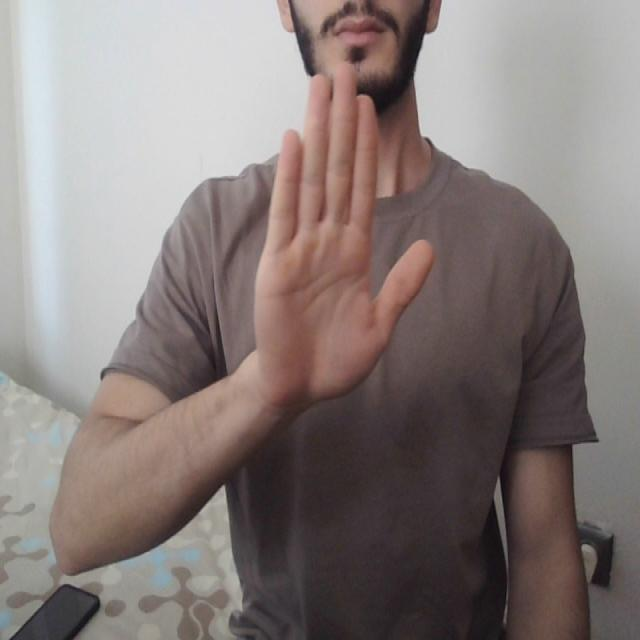Dur: (234, 61, 440, 417)
